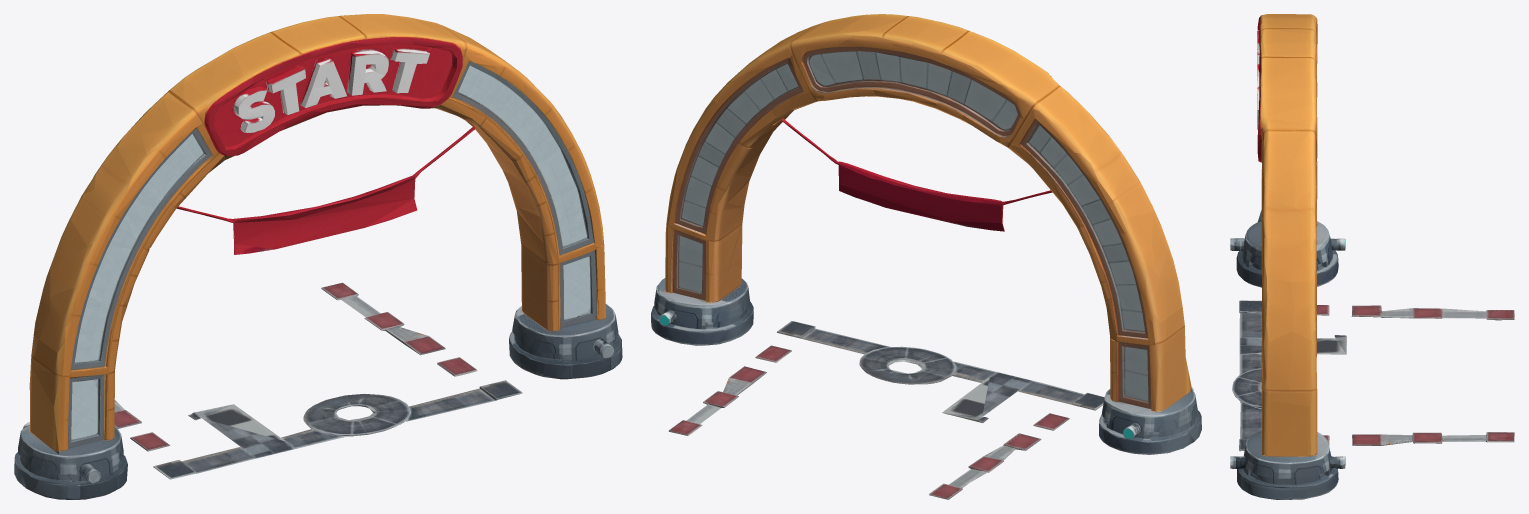
The model's file is race-start.glb.
3 views of the same model, side by side, from view 1: azimuth 30°, elevation 25°; view 2: azimuth 150°, elevation 25°; view 3: azimuth 270°, elevation 25° (orthographic). The views are drawn at different scales.
Parts seen in each view (by area): view 1: output_unwrapped; view 2: output_unwrapped; view 3: output_unwrapped.
Part boxes in pixels (x1=…): output_unwrapped: x1=14, y1=14, x2=622, y2=499; output_unwrapped: x1=651, y1=14, x2=1201, y2=499; output_unwrapped: x1=1230, y1=14, x2=1514, y2=499.
Size of the model in its own units: 1.9 by 1.19 by 0.9139.
1 material, 1 textured.
